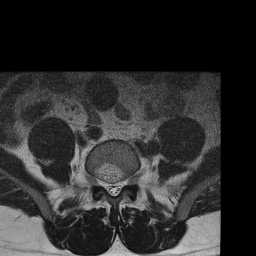CCS_stenosis: (110, 177, 116, 201)
LFS_normal: (123, 171, 129, 190)
LLS_normal: (116, 176, 123, 197)
RFS_normal: (96, 172, 103, 192)
RLS_normal: (103, 176, 110, 196)
